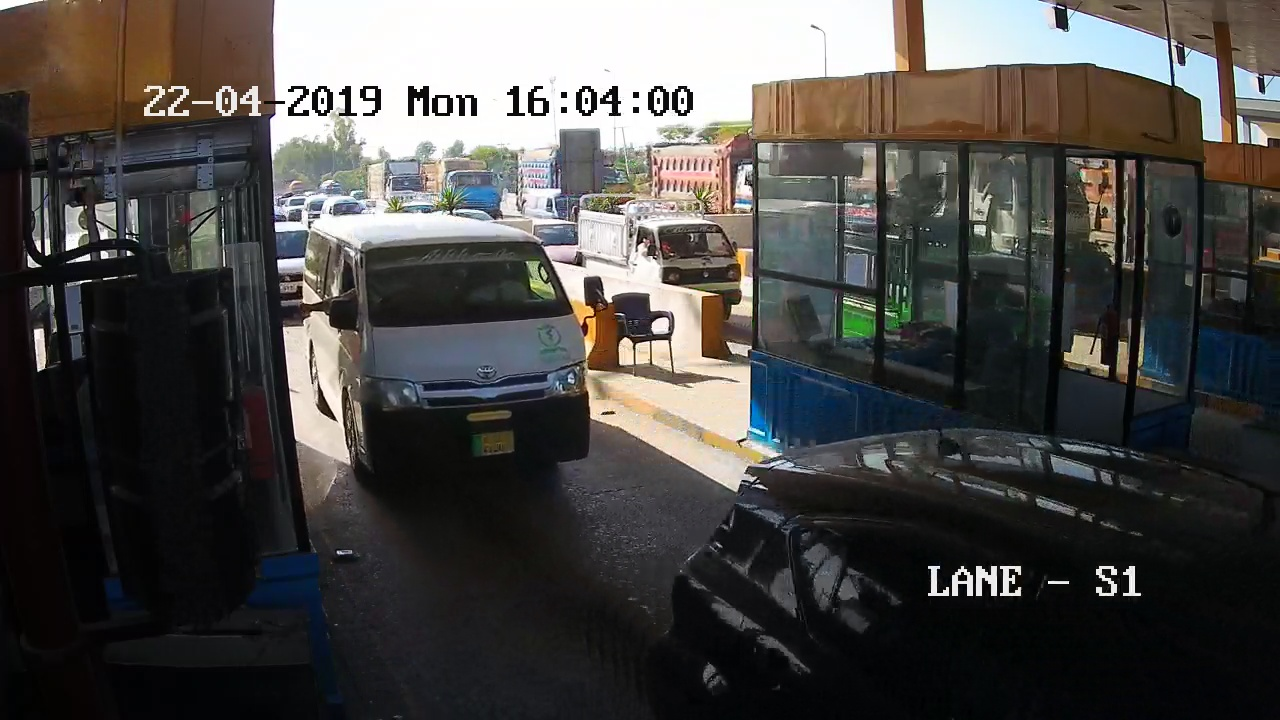Number Plate (Car): (472, 433, 517, 456)
